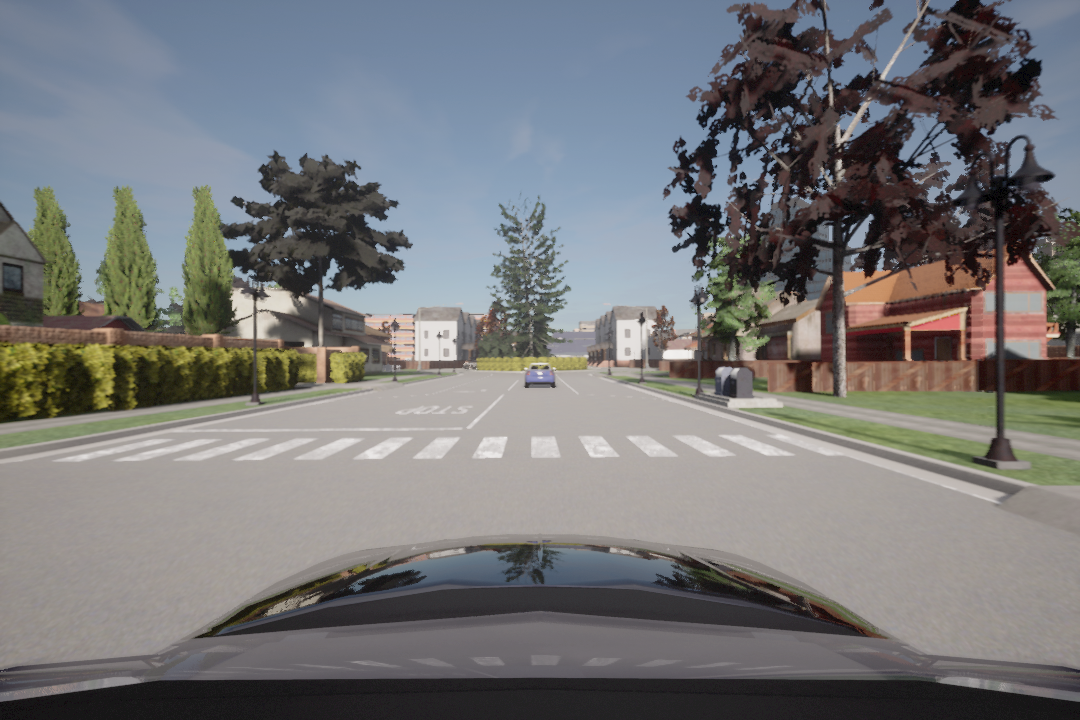walkside: (47, 431, 839, 473)
